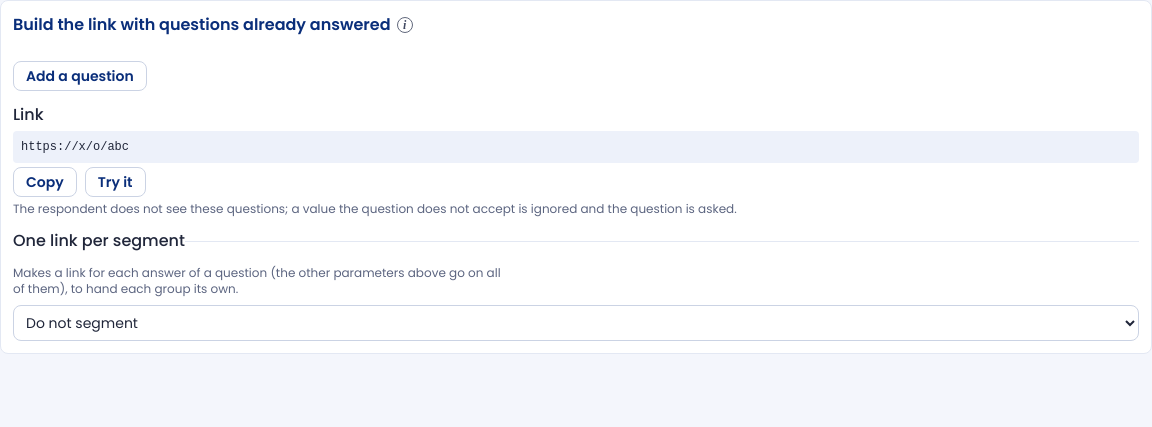
the link builder › leaves a value for another system: the address ends with a placeholder
This screenshot has width=1152, height=427.
Click the button "Add a question". click: (80, 76)
box: [13,61,147,91]
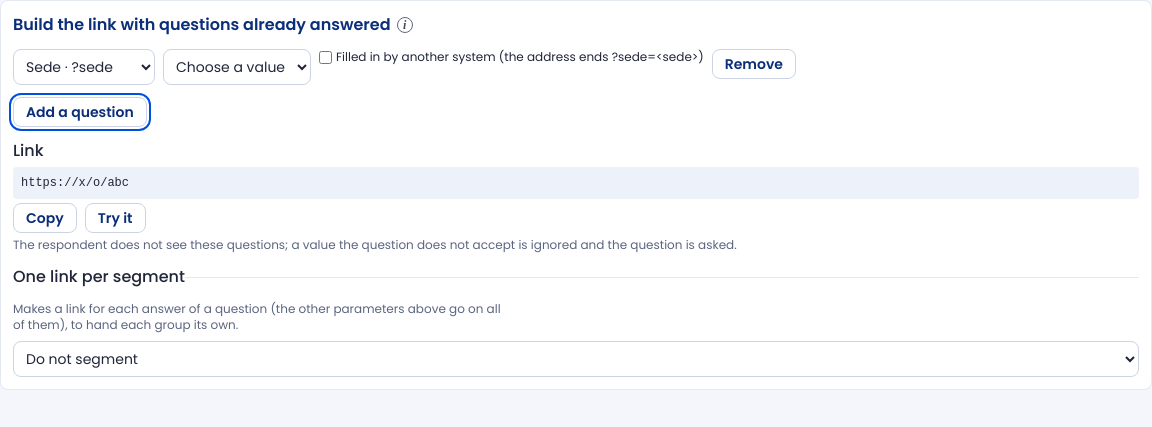
Click the checkbox. click: (326, 57)
box: [319,50,332,64]
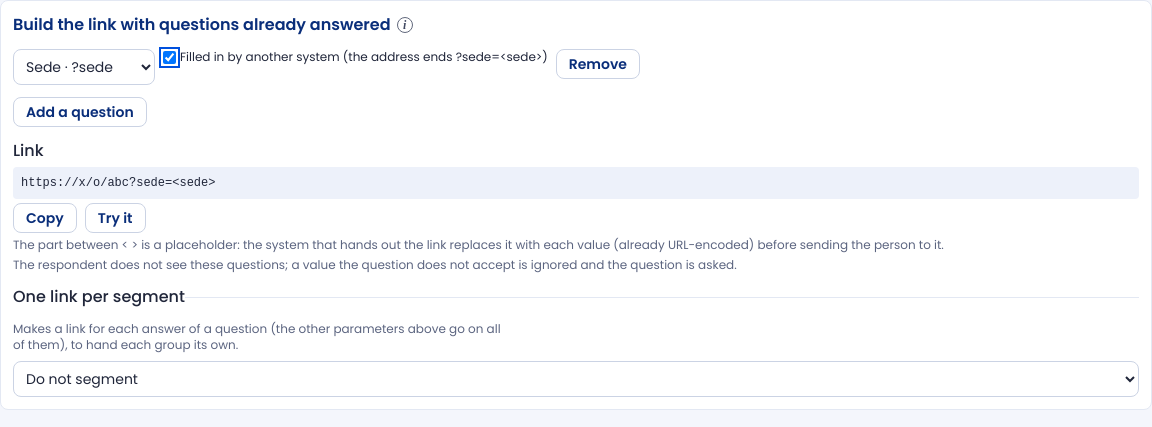
Expected: the text with test id "pending-note" is shown, [13,236,944,253]
